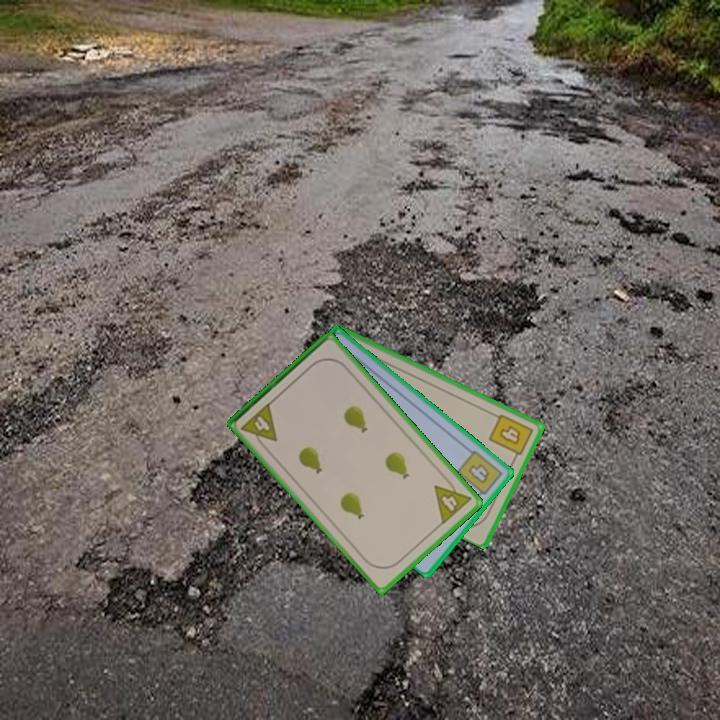4b: (453, 447, 505, 502), (485, 410, 536, 463)
4p: (431, 473, 475, 527), (238, 399, 280, 452)
